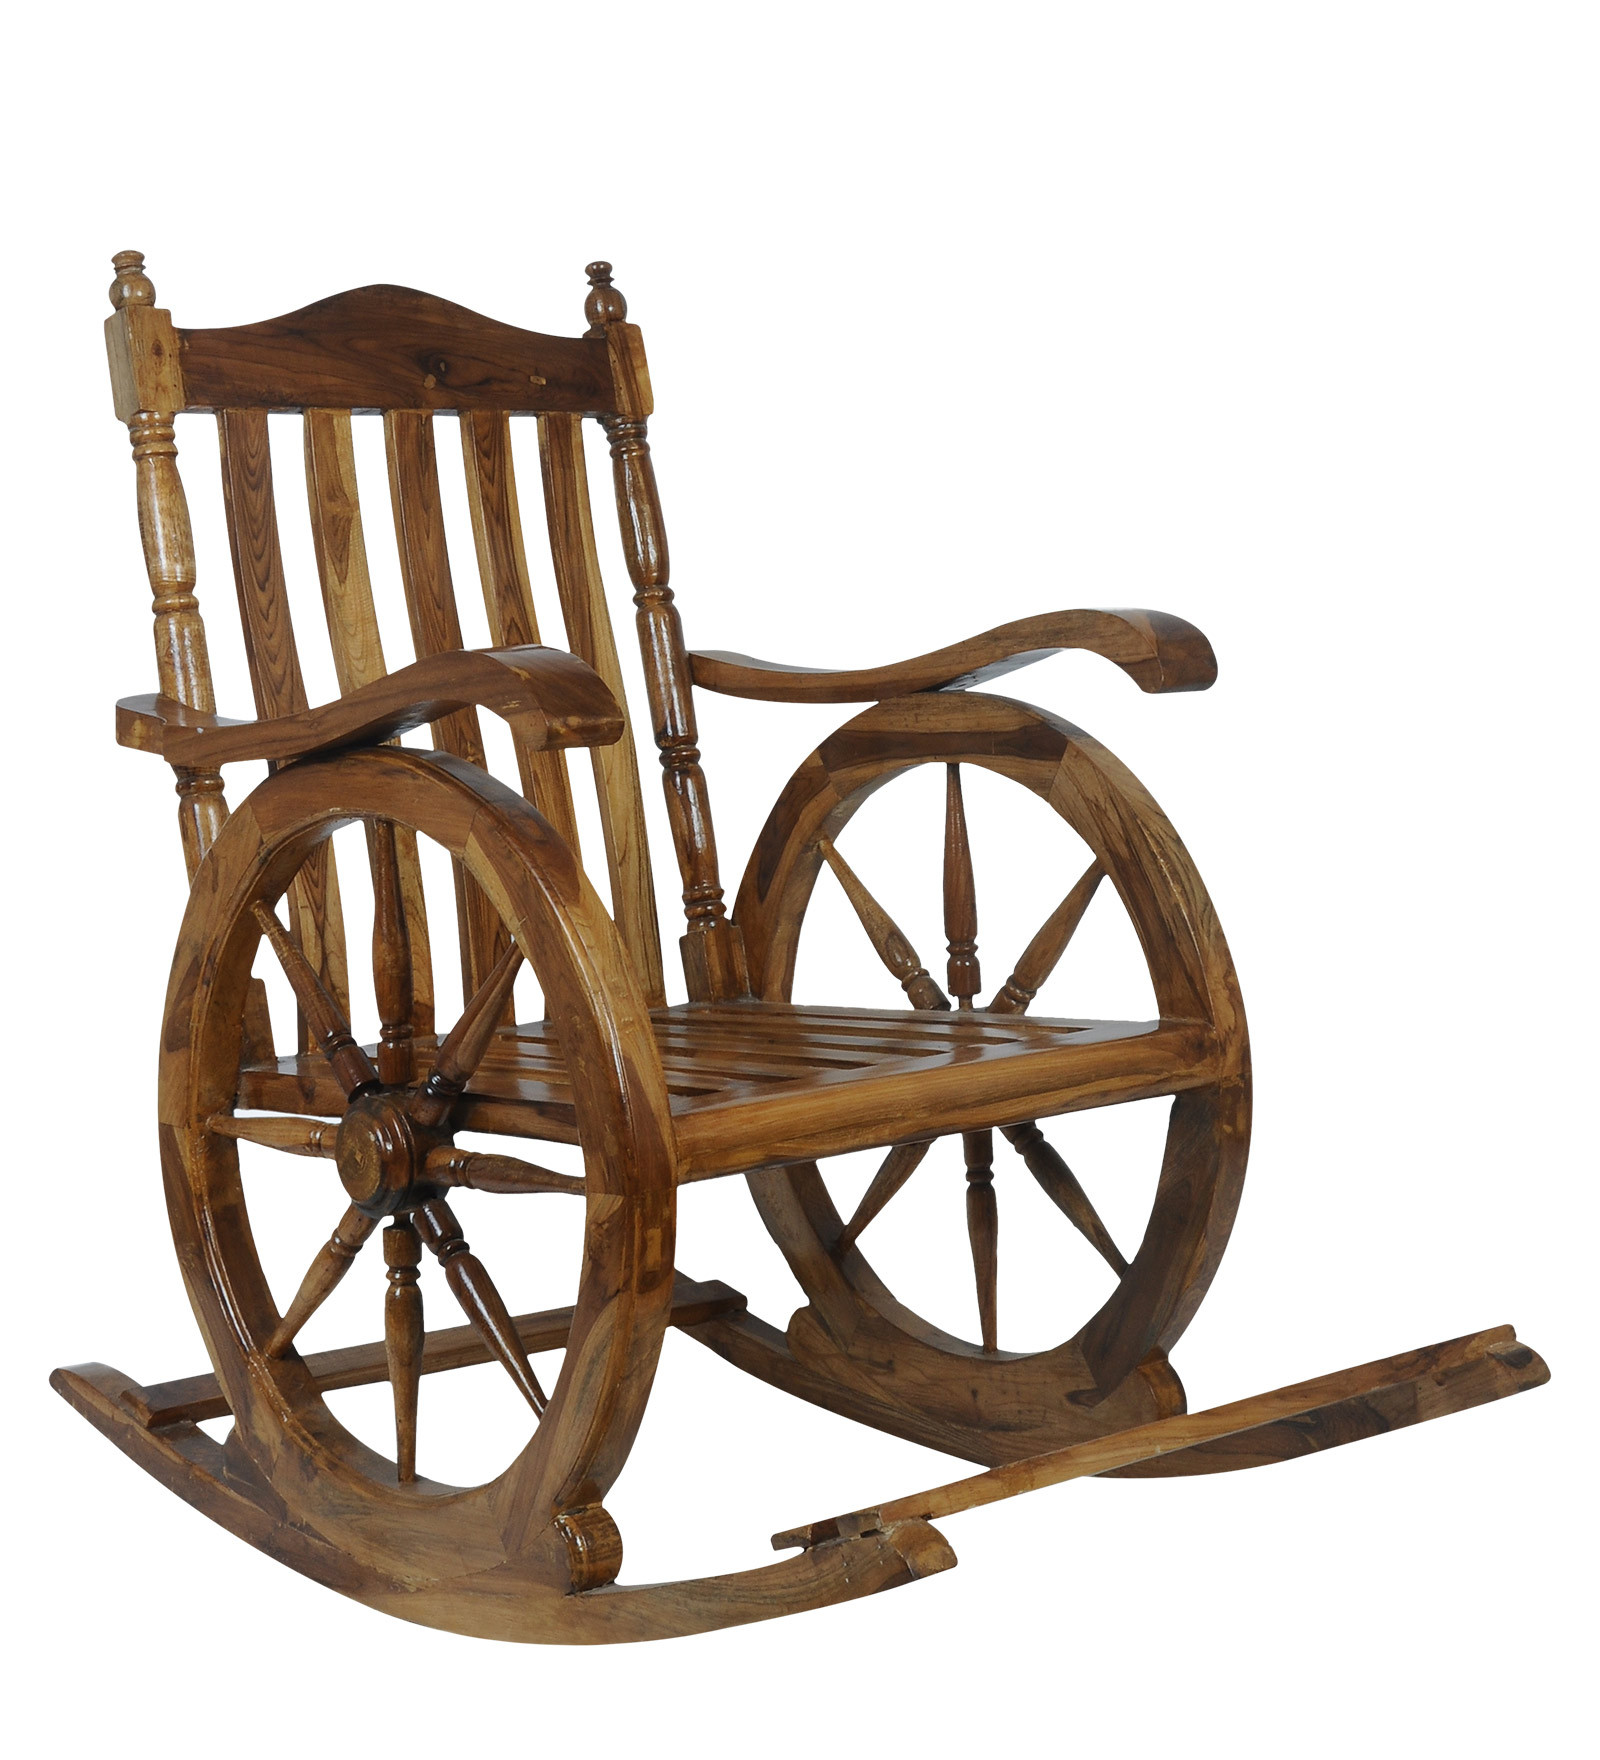Chariot Teak Wood Rocking Chair in Natural Finish by Furniease: (28, 235, 1565, 1643)
